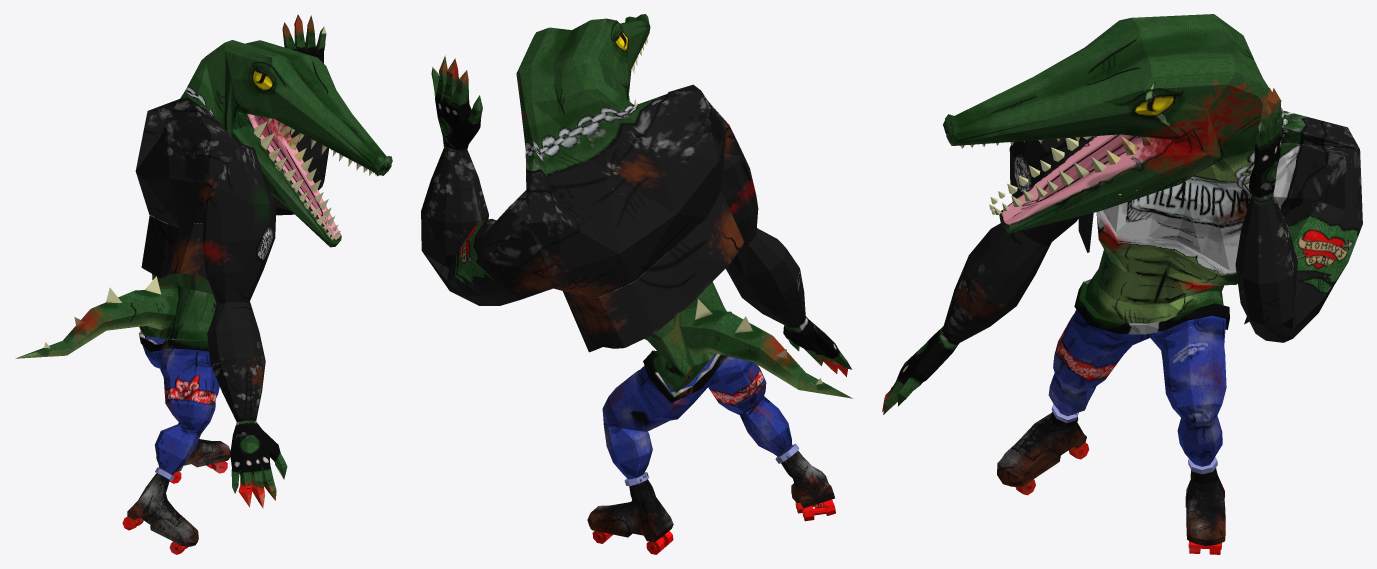
The model's file is cocodrilaBonesSelect_000074.obj.
3 views of the same model, side by side, from view 1: azimuth 30°, elevation 25°; view 2: azimuth 150°, elevation 25°; view 3: azimuth 270°, elevation 25° (orthographic). The views are drawn at different scales.
Visible parts, largest first — view 1: Crocodile.002_Cylinder.002; view 2: Crocodile.002_Cylinder.002; view 3: Crocodile.002_Cylinder.002.
Part boxes in pixels (left/top/right/bottom): Crocodile.002_Cylinder.002: left=15, top=14, right=392, bottom=554; Crocodile.002_Cylinder.002: left=421, top=14, right=853, bottom=554; Crocodile.002_Cylinder.002: left=882, top=14, right=1362, bottom=554.
Size of the model in its own units: 5.15 by 6.17 by 4.82.
